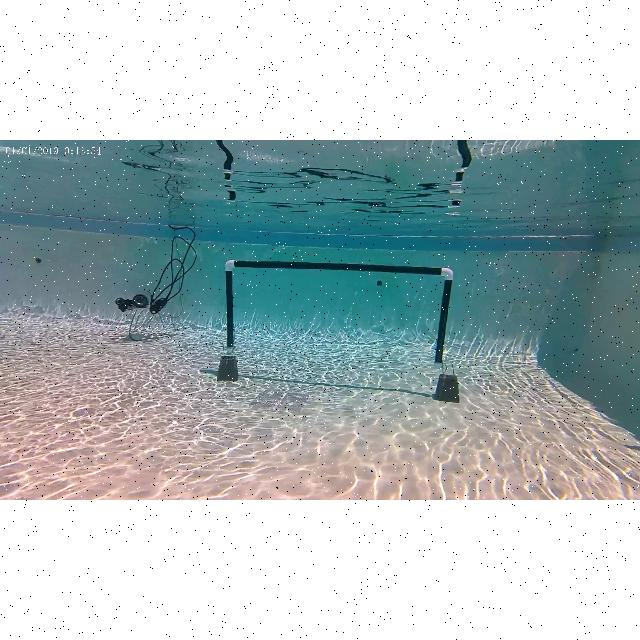prequal gate: (225, 260, 452, 366)
prequal gate leg l: (224, 259, 238, 355)
prequal gate leg r: (432, 266, 454, 372)
